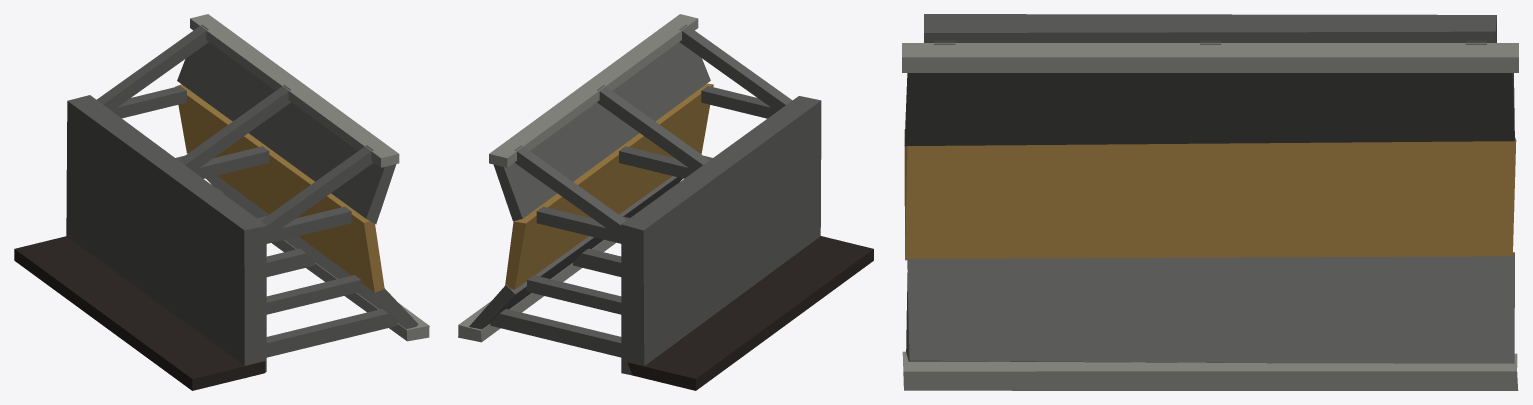
File: arm_plow_ram.glb
The picture shows the model from 3 angles, left to right: view 1: azimuth 30°, elevation 25°; view 2: azimuth 150°, elevation 25°; view 3: azimuth 270°, elevation 25°; orthographic projection. The views are drawn at different scales.
Parts seen in each view (by area): view 1: arm_plow_ram; view 2: arm_plow_ram; view 3: arm_plow_ram.
Boxes of the visible parts, x1,y1,x2,y2 form: arm_plow_ram: (14,14,429,390); arm_plow_ram: (458,14,873,390); arm_plow_ram: (902,14,1518,390).
Size of the model in its own units: 1.02 by 0.8147 by 1.45.
